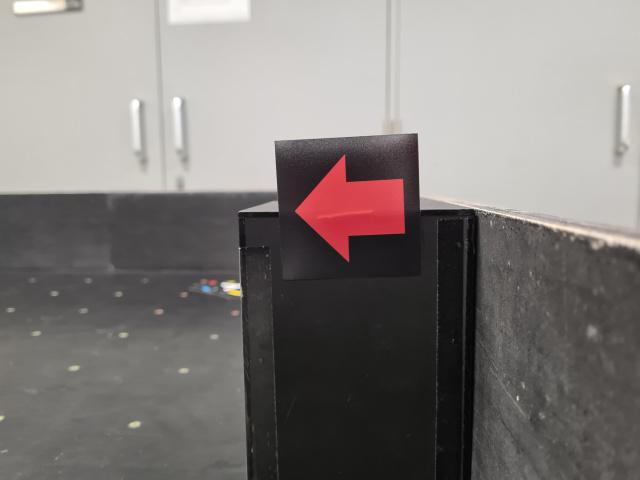left: (275, 133, 422, 278)
